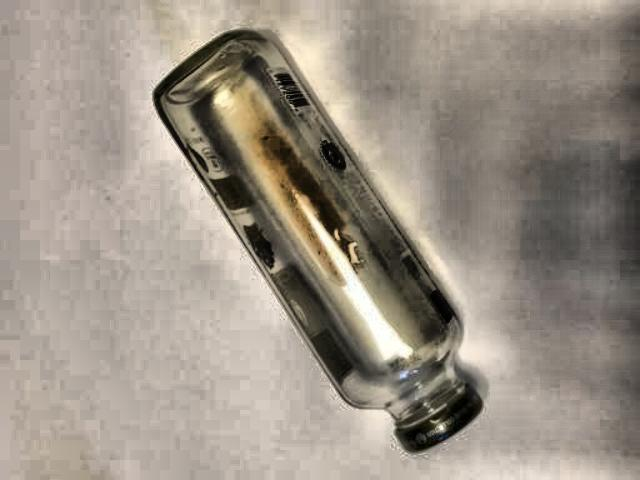Bottles: (157, 0, 516, 468)
